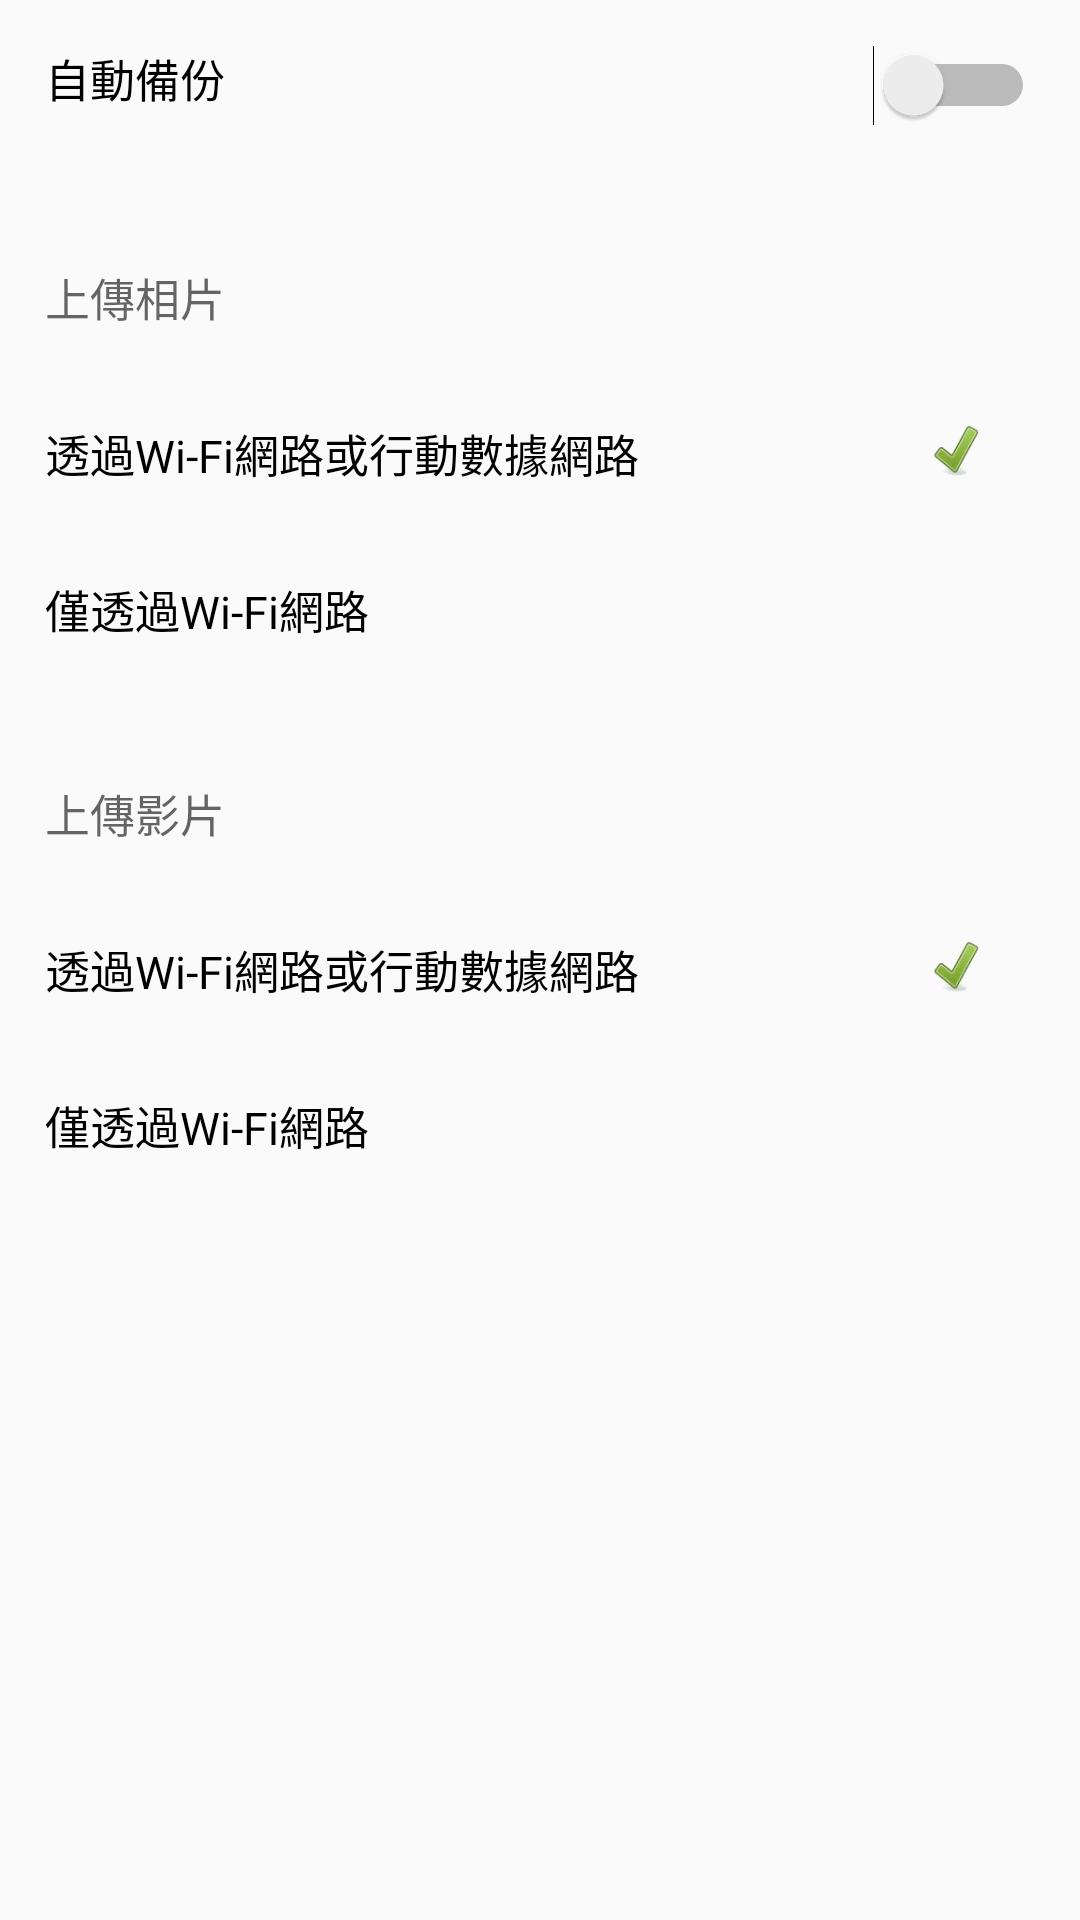

Locate icon controls on the screen. Image size 1080 × 1920, boxes as region(x1, y1, x2, y2).
status: region(934, 426, 979, 475), region(934, 942, 979, 991)
